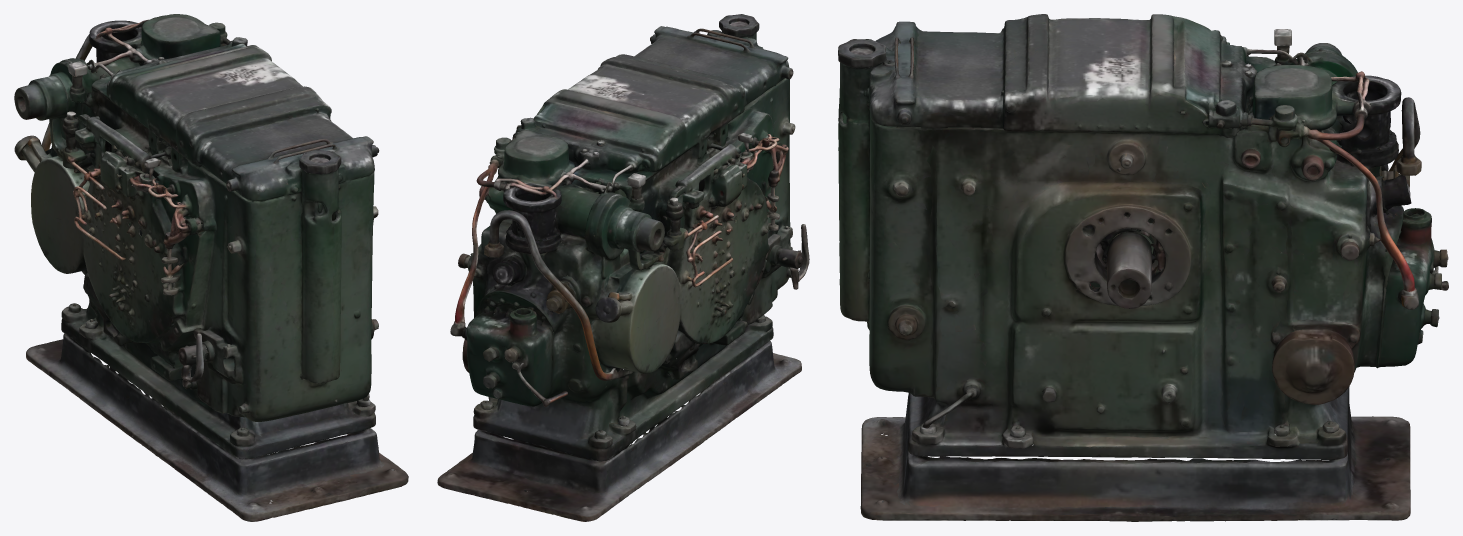
The model's file is engine2.glb.
3 renders of one model, left to right at view 1: azimuth 30°, elevation 25°; view 2: azimuth 150°, elevation 25°; view 3: azimuth 270°, elevation 25°, orthographic. The views are drawn at different scales.
Visible parts, largest first — view 1: world; view 2: world; view 3: world.
Part boxes in pixels (<box>): world: <box>14,14,408,521</box>; world: <box>437,14,809,521</box>; world: <box>838,14,1448,521</box>.
Bounding box in the file's own units: 0.5386 × 0.7624 × 1.
1 material, 1 textured.
